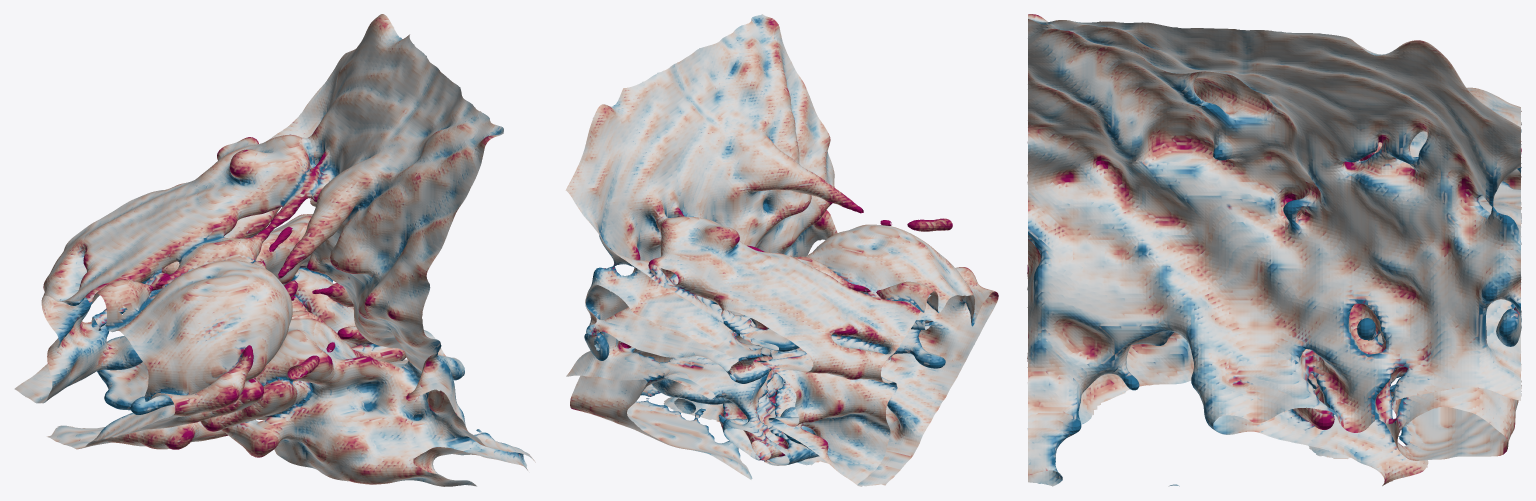
The model's file is crop1071_curvature.glb.
3 renders of one model, left to right at view 1: azimuth 30°, elevation 25°; view 2: azimuth 150°, elevation 25°; view 3: azimuth 270°, elevation 25°, orthographic. The views are drawn at different scales.
Visible parts, largest first — view 1: world; view 2: world; view 3: world.
Part boxes in pixels (bbox=[...]): world: bbox=[14, 14, 535, 486]; world: bbox=[565, 14, 998, 486]; world: bbox=[1027, 14, 1521, 486].
Bounding box in the file's own units: 2280 × 2280 × 2280.
